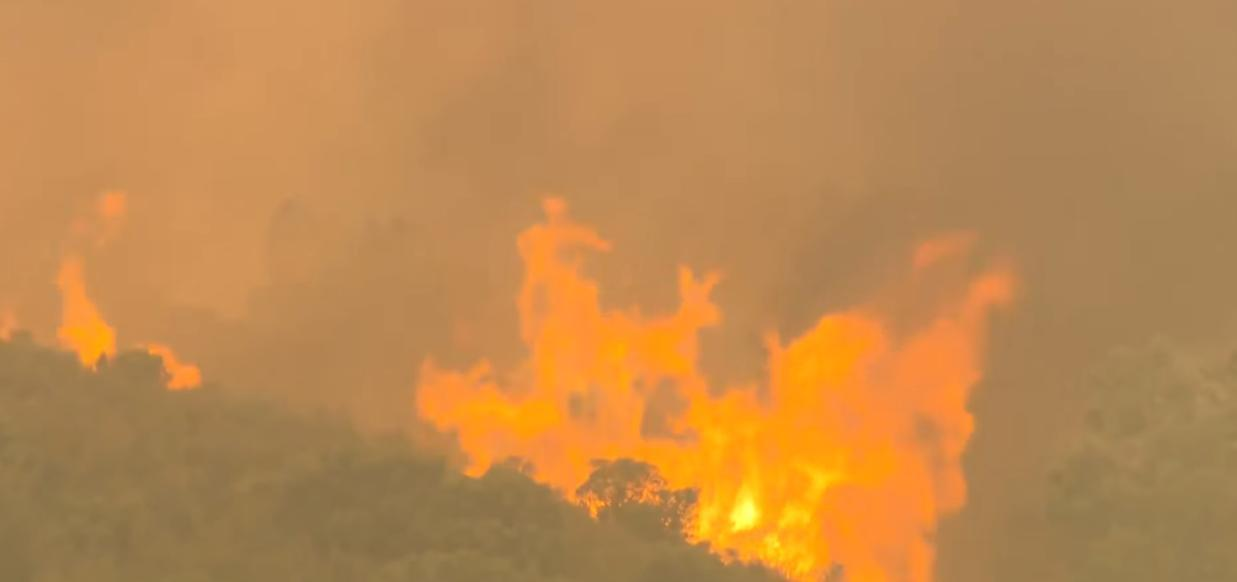fire: (403, 183, 1015, 579), (49, 245, 206, 395)
